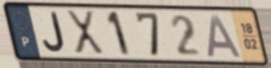1: (106, 10, 132, 58)
2: (170, 13, 203, 58)
7: (134, 11, 163, 59)
A: (205, 13, 244, 59)
J: (41, 11, 67, 54)
X: (64, 9, 107, 58)
